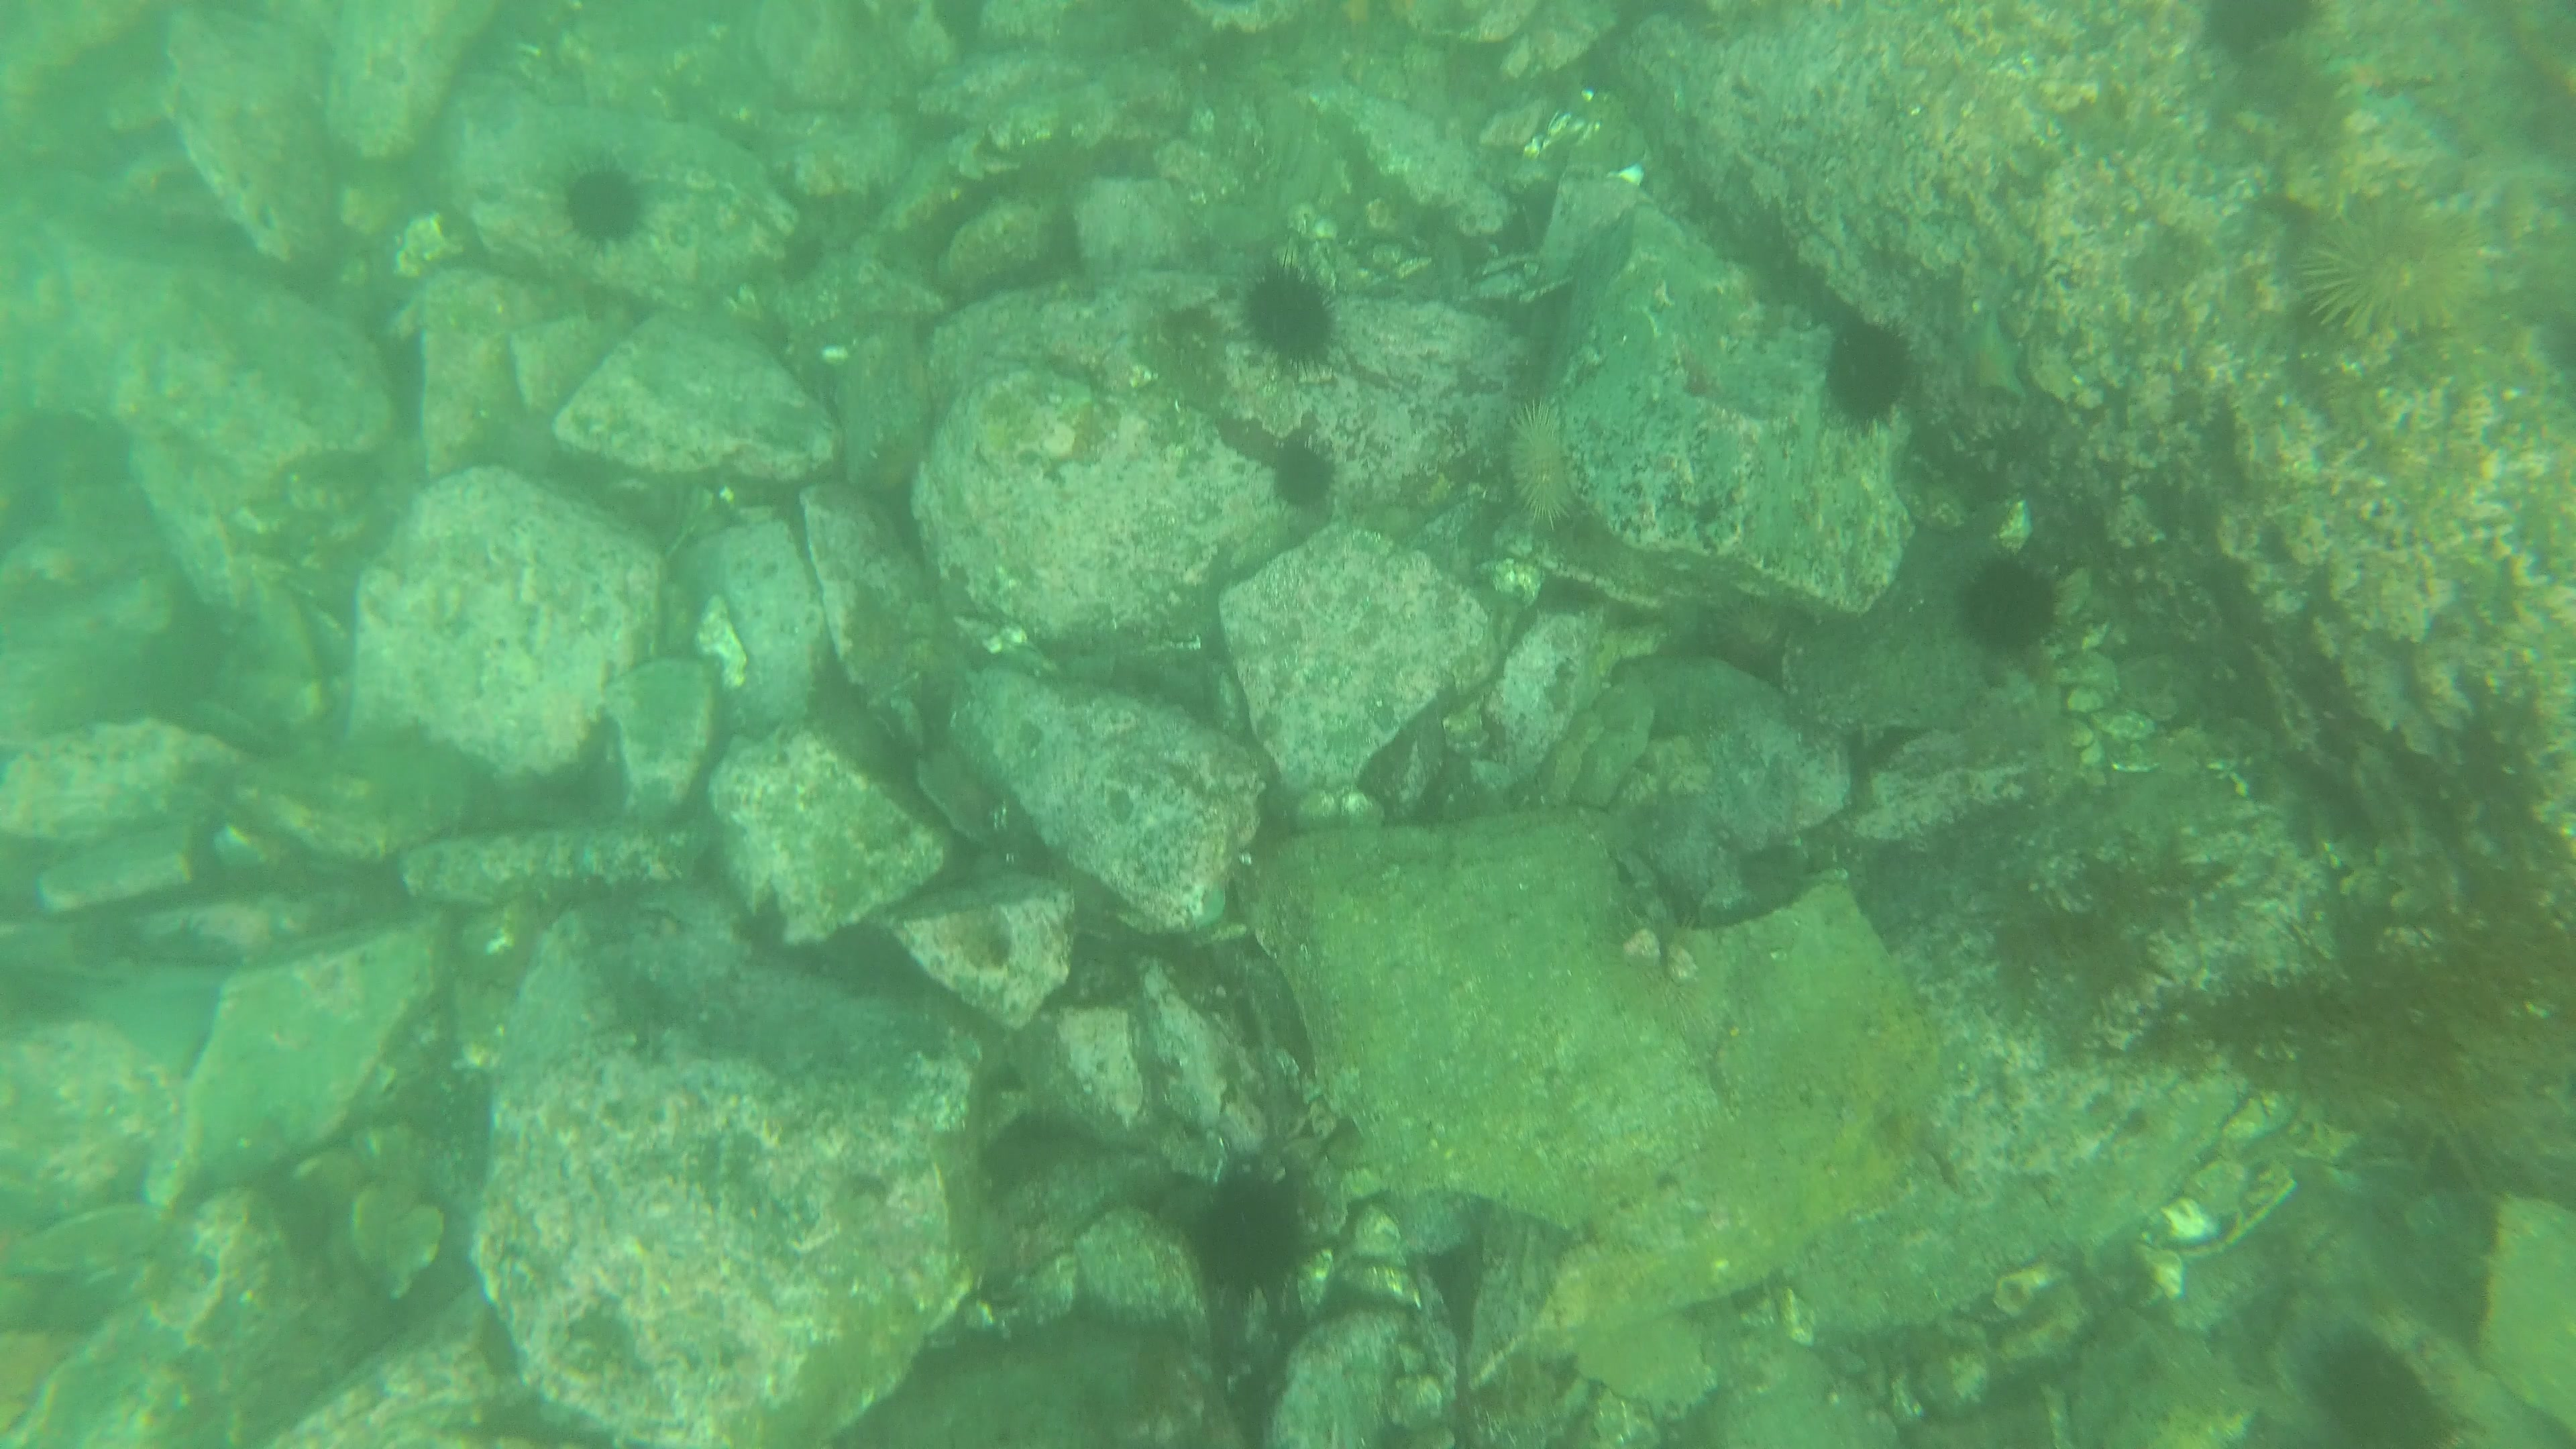echinus: (2312, 193, 2498, 352), (2296, 1322, 2463, 1444), (1196, 1166, 1318, 1292), (1235, 253, 1359, 372), (1824, 317, 1927, 433), (545, 157, 663, 257), (1495, 400, 1582, 531), (1953, 547, 2059, 639), (1265, 437, 1350, 513)
